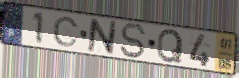1: (31, 11, 45, 45)
4: (188, 32, 212, 68)
C: (52, 15, 80, 48)
N: (86, 17, 118, 56)
Q: (156, 28, 185, 64)
S: (119, 21, 148, 60)
